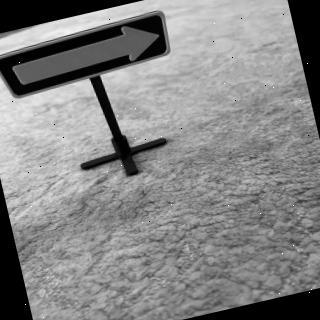sign_oneway_right: (1, 7, 178, 104)
